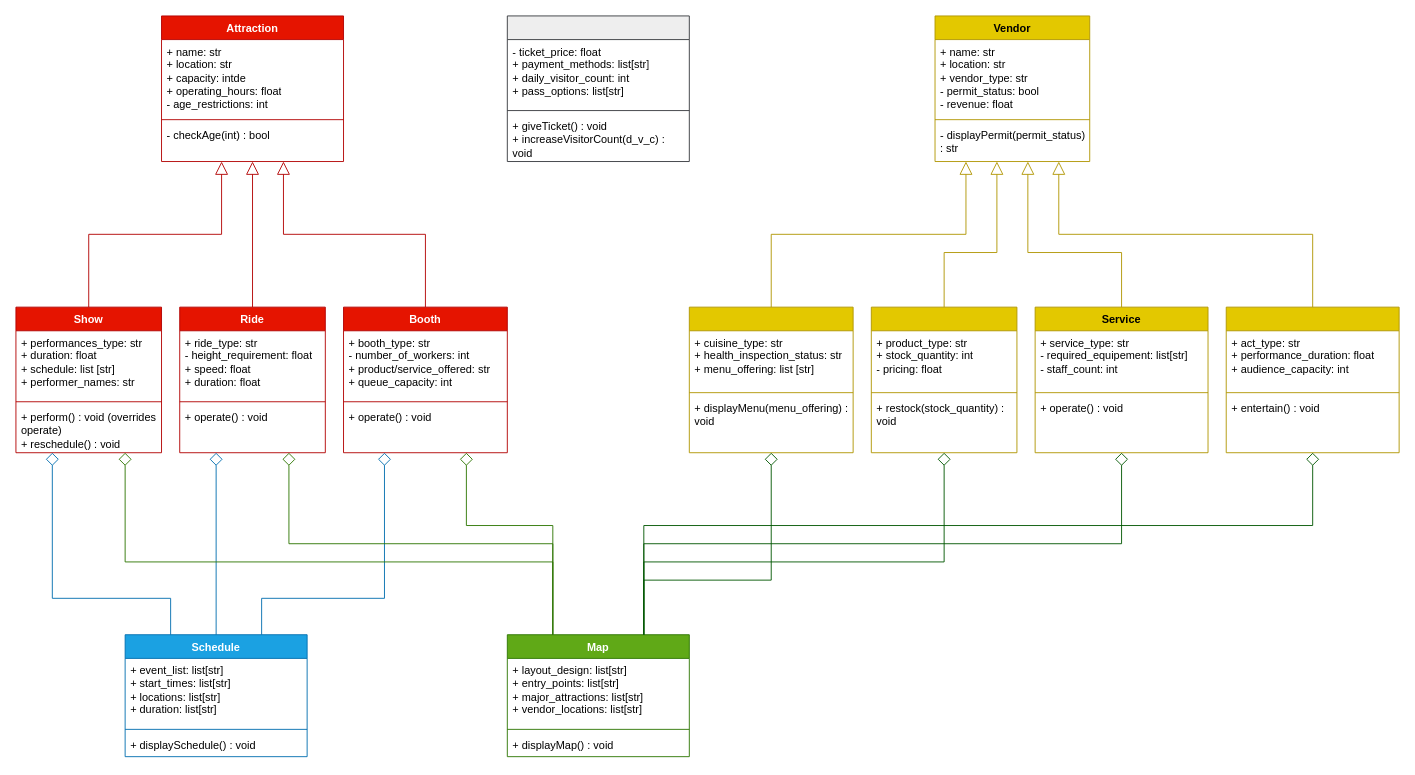
The diagram is 1415 pixels wide and 775 high, and some of its shapes have lost their labels. Each missing label, with the box of its shape:
Admissions: (506, 15, 689, 162)
Entertainment: (1225, 306, 1399, 453)
Food: (688, 306, 853, 453)
Merchandise: (870, 306, 1017, 453)
